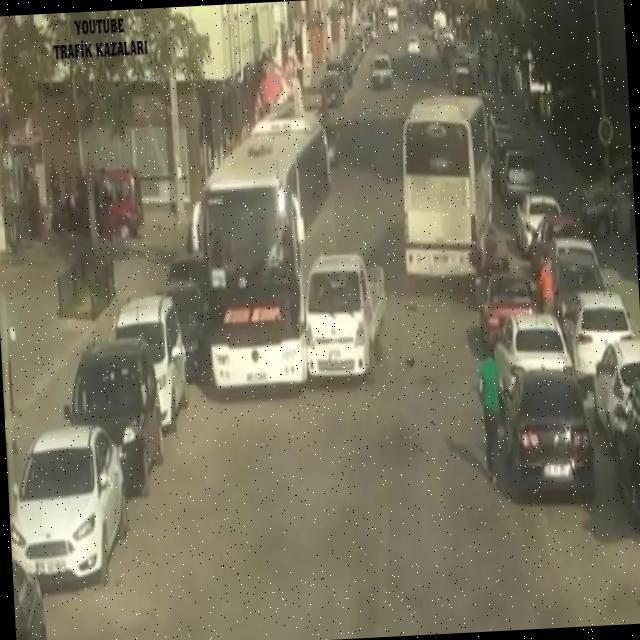accident: (183, 91, 394, 392)
